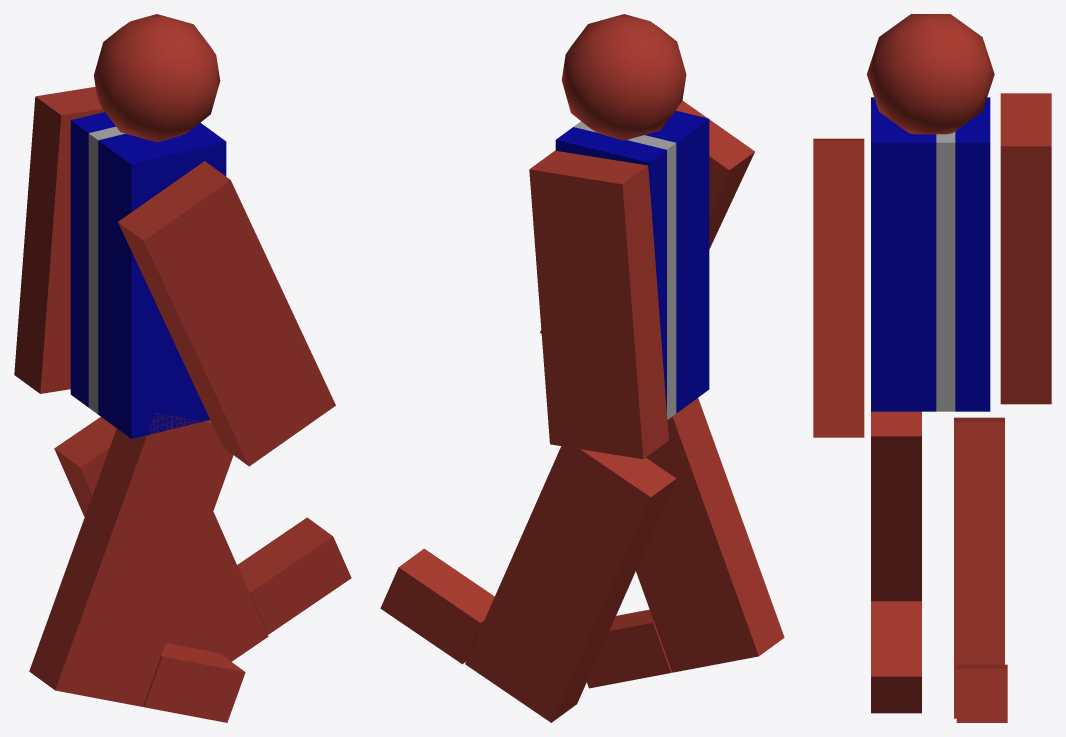
File: player_000053.obj
3 renders of one model, left to right at view 1: azimuth 30°, elevation 25°; view 2: azimuth 150°, elevation 25°; view 3: azimuth 270°, elevation 25°, orthographic. The views are drawn at different scales.
Parts seen in each view (by area): view 1: Cube.001, Cube.005, Cube, Cube.006, Icosphere, Cube.002, Cube.004, Cube.003; view 2: Cube.006, Cube.002, Cube.001, Cube, Icosphere, Cube.004, Cube.003, Cube.005; view 3: Cube, Cube.006, Cube.005, Cube.002, Icosphere, Cube.001, Cube.003, Cube.004.
Part boxes in pixels (x1=…): Cube.001: x1=29, y1=413, x2=233, y2=706; Cube.005: x1=118, y1=161, x2=335, y2=466; Cube: x1=70, y1=112, x2=226, y2=438; Cube.006: x1=14, y1=86, x2=104, y2=393; Icosphere: x1=94, y1=14, x2=220, y2=142; Cube.002: x1=54, y1=417, x2=268, y2=661; Cube.004: x1=237, y1=517, x2=351, y2=634; Cube.003: x1=143, y1=643, x2=245, y2=722; Cube.006: x1=529, y1=150, x2=668, y2=459; Cube.002: x1=465, y1=446, x2=676, y2=722; Cube.001: x1=636, y1=398, x2=784, y2=672; Cube: x1=555, y1=110, x2=709, y2=419; Icosphere: x1=561, y1=14, x2=686, y2=140; Cube.004: x1=380, y1=548, x2=494, y2=664; Cube.003: x1=587, y1=609, x2=671, y2=688; Cube.005: x1=540, y1=100, x2=754, y2=333; Cube: x1=871, y1=97, x2=990, y2=411; Cube.006: x1=1000, y1=93, x2=1051, y2=404; Cube.005: x1=813, y1=138, x2=864, y2=437; Cube.002: x1=954, y1=417, x2=1004, y2=718; Icosphere: x1=867, y1=14, x2=994, y2=134; Cube.001: x1=871, y1=411, x2=921, y2=601; Cube.003: x1=871, y1=601, x2=921, y2=713; Cube.004: x1=956, y1=664, x2=1007, y2=722.
Size of the model in its own units: 1.48 by 2.88 by 0.9137.
